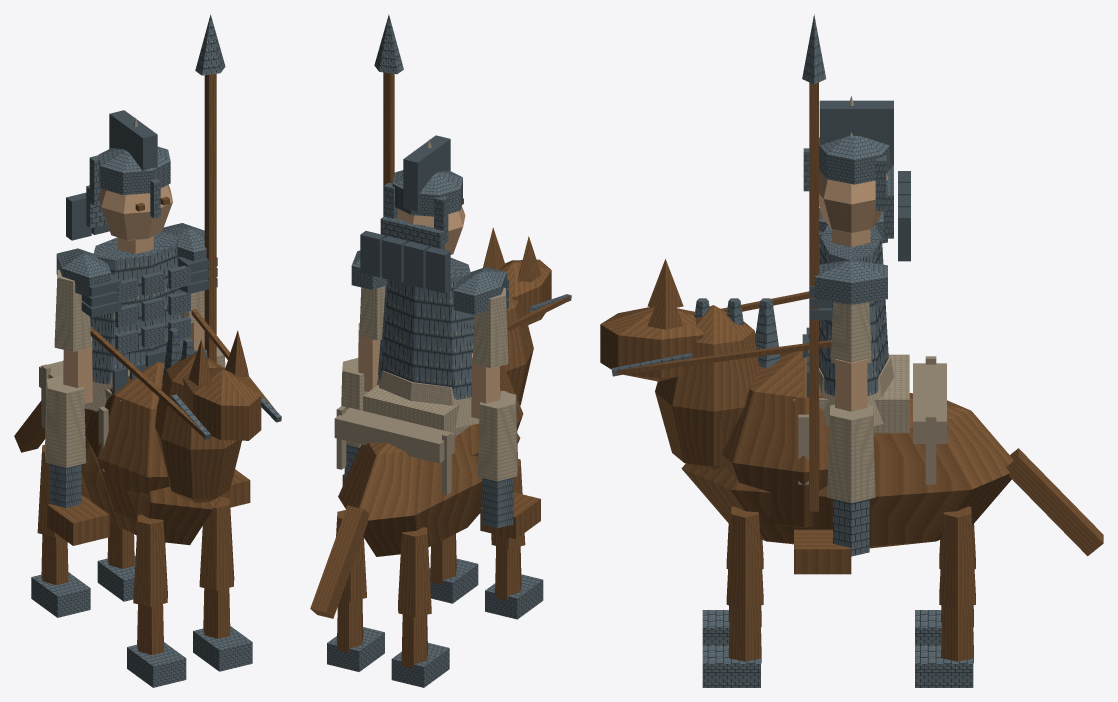
Rendered from unit-CAVALRY-lod0.glb.
The picture shows the model from 3 angles, left to right: view 1: azimuth 30°, elevation 25°; view 2: azimuth 150°, elevation 25°; view 3: azimuth 270°, elevation 25°; orthographic projection. The views are drawn at different scales.
Bounding box in the file's own units: 0.218 × 0.705 × 0.4738.
1 material, 1 textured.
